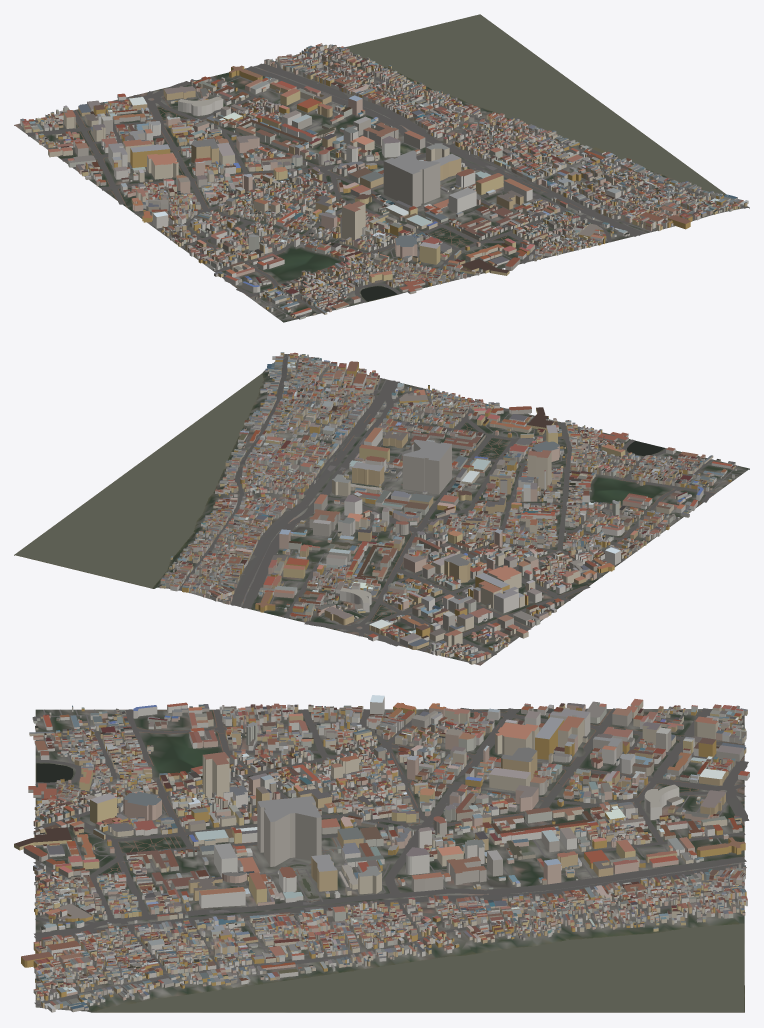
3 views of the same model, one above another, from view 1: azimuth 30°, elevation 25°; view 2: azimuth 150°, elevation 25°; view 3: azimuth 270°, elevation 25° (orthographic). The views are drawn at different scales.
Visible parts, largest first — view 1: buildings, ground, water, roads; view 2: buildings, ground, water, roads; view 3: buildings, ground, water, roads.
Boxes of the visible parts, <box> form: buildings: <box>20,43,748,319</box>; ground: <box>14,14,749,322</box>; water: <box>345,14,725,301</box>; roads: <box>26,56,747,320</box>; buildings: <box>159,352,736,664</box>; ground: <box>14,354,749,665</box>; water: <box>15,373,664,604</box>; roads: <box>178,354,746,656</box>; buildings: <box>14,695,749,1012</box>; ground: <box>35,709,744,1012</box>; water: <box>36,763,744,1011</box>; roads: <box>33,708,749,1005</box>.
Bounding box in the file's own units: 1434 × 110 × 1455.
